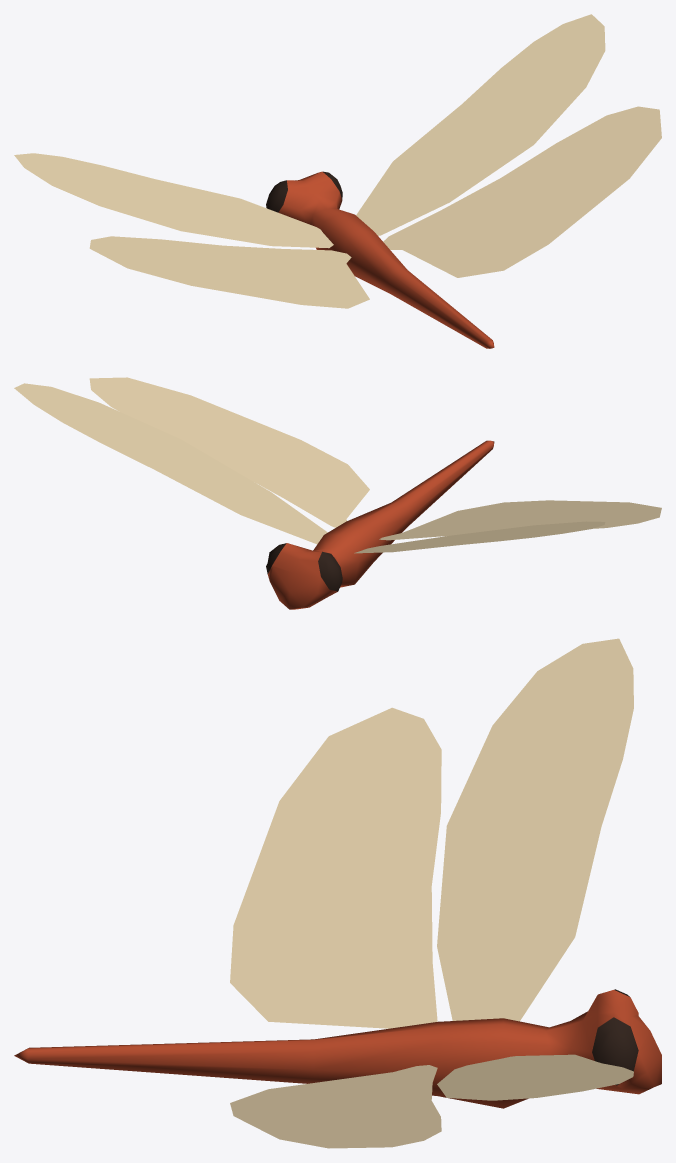
The model's file is itch_assetquest_pond_dragonfly_2.glb.
The picture shows the model from 3 angles, top to bottom: view 1: azimuth 30°, elevation 25°; view 2: azimuth 150°, elevation 25°; view 3: azimuth 270°, elevation 25°; orthographic projection. The views are drawn at different scales.
Parts seen in each view (by area): view 1: Dragonfly_2; view 2: Dragonfly_2; view 3: Dragonfly_2.
Part boxes in pixels (bbox=[...]): Dragonfly_2: bbox=[14, 14, 661, 348]; Dragonfly_2: bbox=[14, 377, 661, 609]; Dragonfly_2: bbox=[14, 638, 661, 1148].
Size of the model in its own units: 0.42 by 0.1079 by 0.257.
